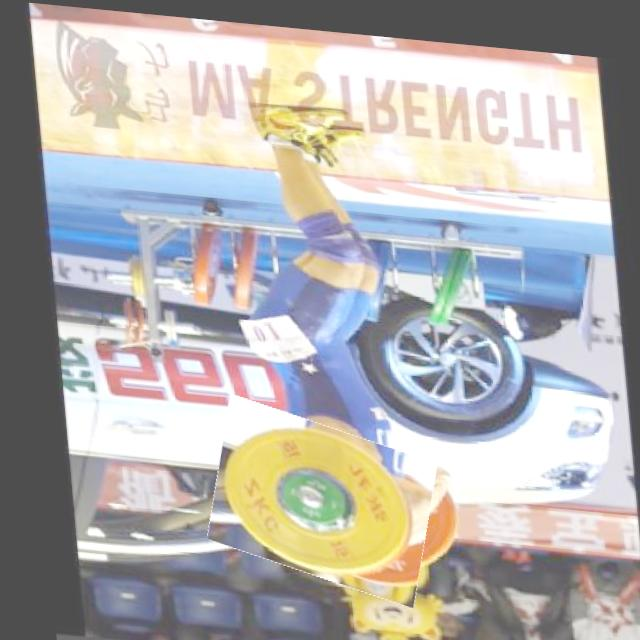barbell: (197, 401, 432, 593)
